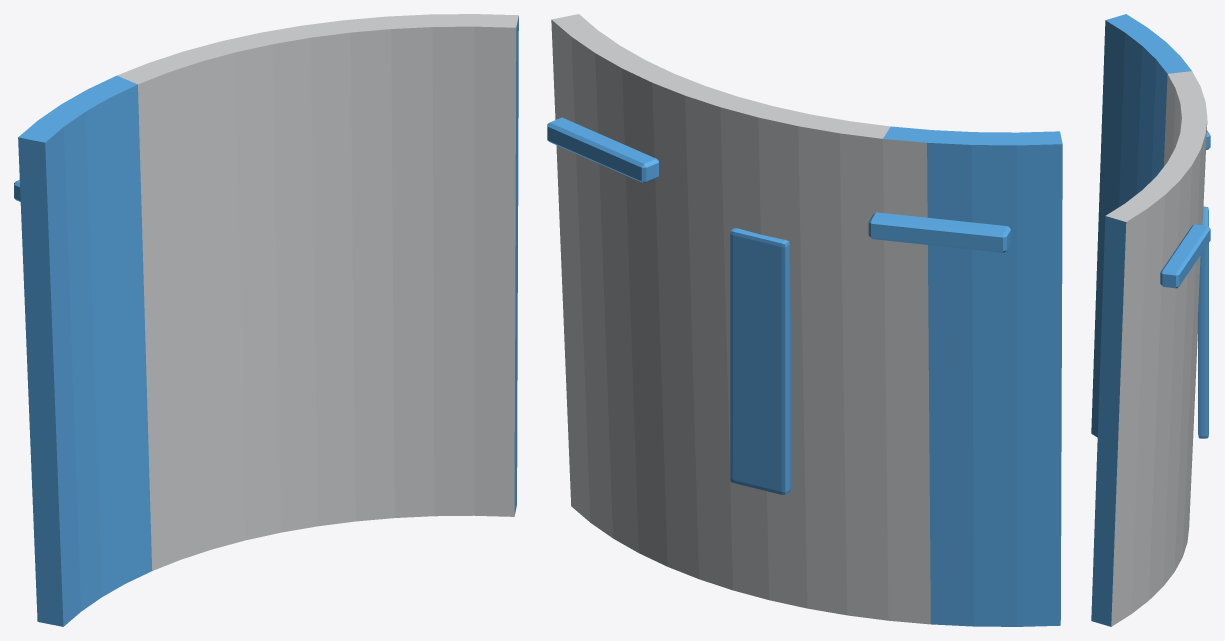
Rendered from back__spine_ridge.glb.
The picture shows the model from 3 angles, left to right: view 1: azimuth 30°, elevation 25°; view 2: azimuth 150°, elevation 25°; view 3: azimuth 270°, elevation 25°; orthographic projection. The views are drawn at different scales.
Visible parts, largest first — view 1: armor_armor_back__spine_ridge_v001_v001; view 2: armor_armor_back__spine_ridge_v001_v001; view 3: armor_armor_back__spine_ridge_v001_v001.
Part boxes in pixels (left/top/right/bottom): armor_armor_back__spine_ridge_v001_v001: left=14, top=14, right=518, bottom=626; armor_armor_back__spine_ridge_v001_v001: left=547, top=14, right=1062, bottom=626; armor_armor_back__spine_ridge_v001_v001: left=1091, top=14, right=1210, bottom=626.
Bounding box in the file's own units: 0.5452 × 0.5 × 0.1322.
